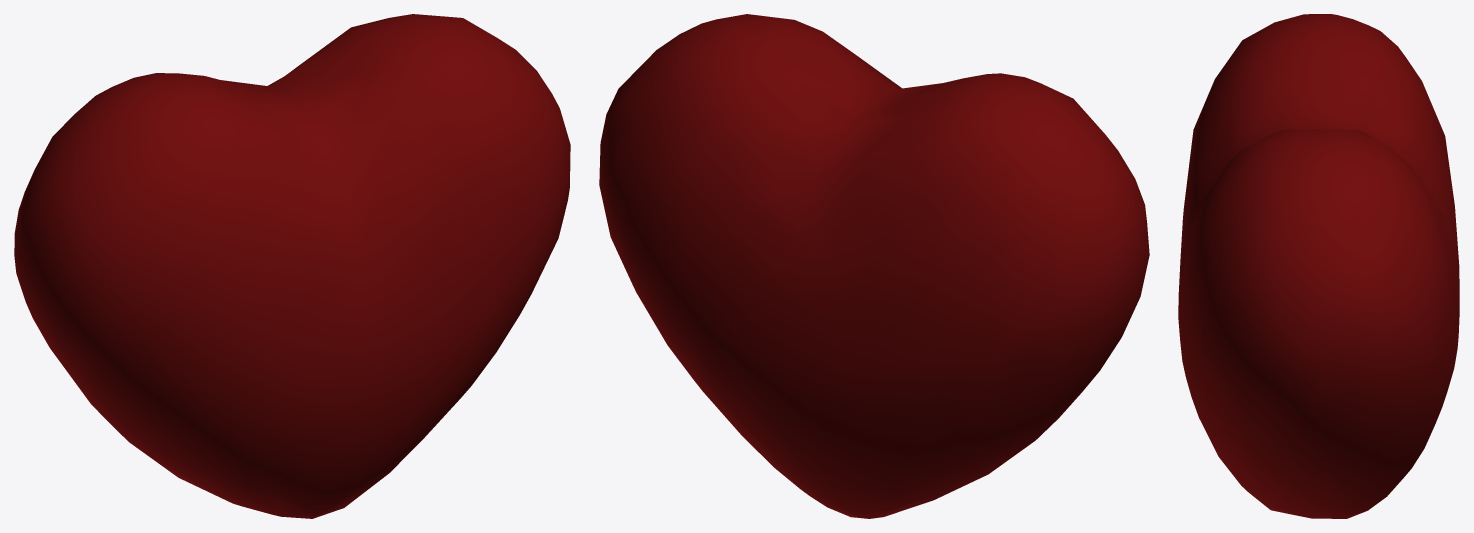
File: lovelove.FBX
3 views of the same model, side by side, from view 1: azimuth 30°, elevation 25°; view 2: azimuth 150°, elevation 25°; view 3: azimuth 270°, elevation 25° (orthographic). The views are drawn at different scales.
Visible parts, largest first — view 1: Love; view 2: Love; view 3: Love.
Part boxes in pixels (x1,y1,x2,y2): Love: (14,14,570,518); Love: (599,14,1149,518); Love: (1178,14,1459,518).
Size of the model in its own units: 173 by 143 by 85.68.
